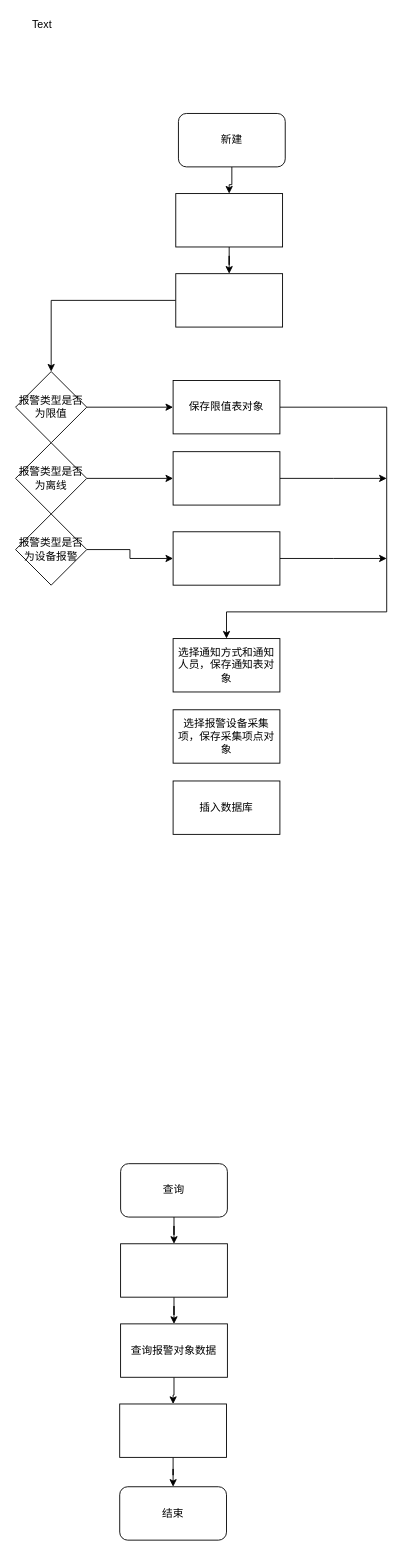
Some shapes in this 409 by 1556 pixel diagram are drawn without their labels. The shapes that lost their labels are listed below. From the top down, each one's centre as x and y in pixels, then its label:
the point at 229,220: 输入报警基本信息
the point at 229,300: 选择报警类型
the point at 226,478: 保存离线表对象
the point at 226,558: 保存设备表对象
the point at 173,1270: 传入报警对象id
the point at 173,1430: 查询报警对象关联表数据，并设置对象内
